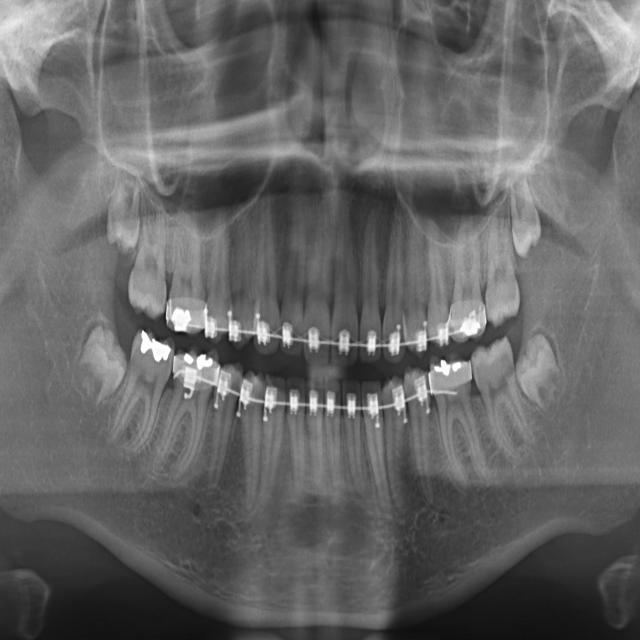AmalgamRestoration: (134, 324, 177, 374), (428, 349, 470, 395), (167, 287, 195, 338), (175, 348, 216, 378)
